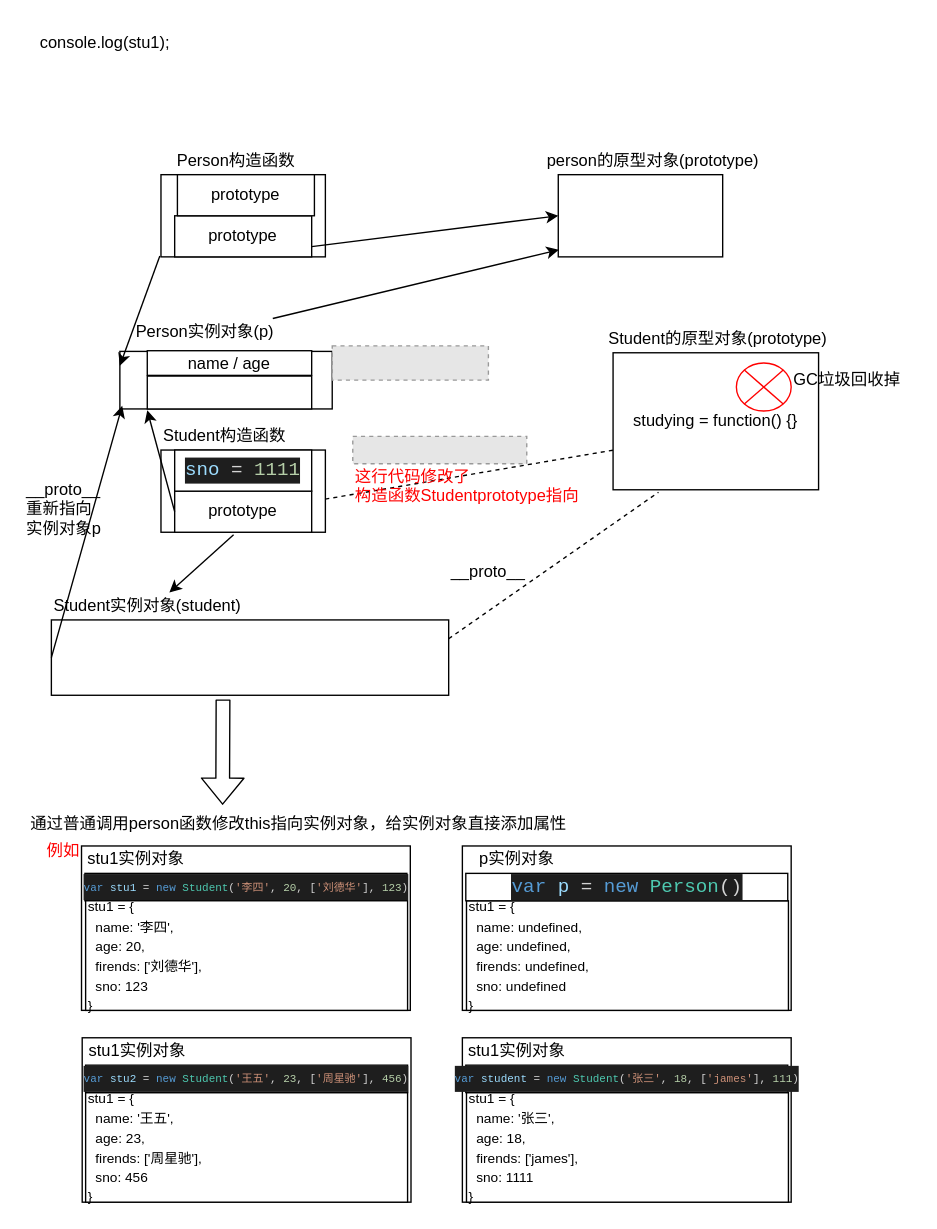
Image size: 937x1229. Some labels were removed from this diagram. Grey dashed boxes stand in for pictures. Here are the shapes that lost their labels. From the top down, the box of each, then its label:
(557, 173, 723, 257): eating = function() {}
(146, 375, 312, 409): studying =function(){}
(50, 619, 449, 695): sno Person . call ( this , name , age , firends )
